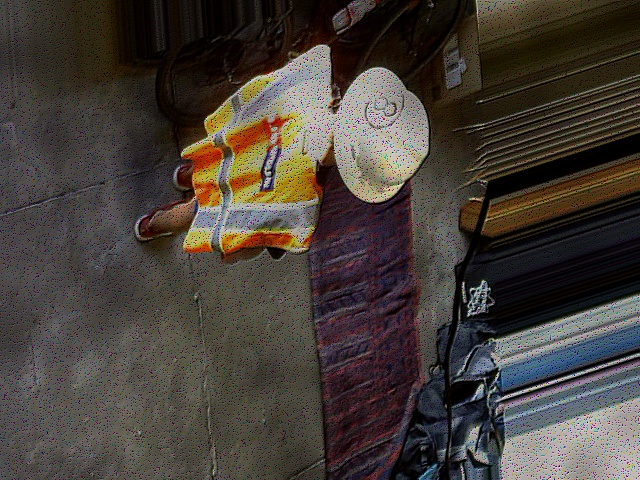eight: (364, 82, 408, 134)
